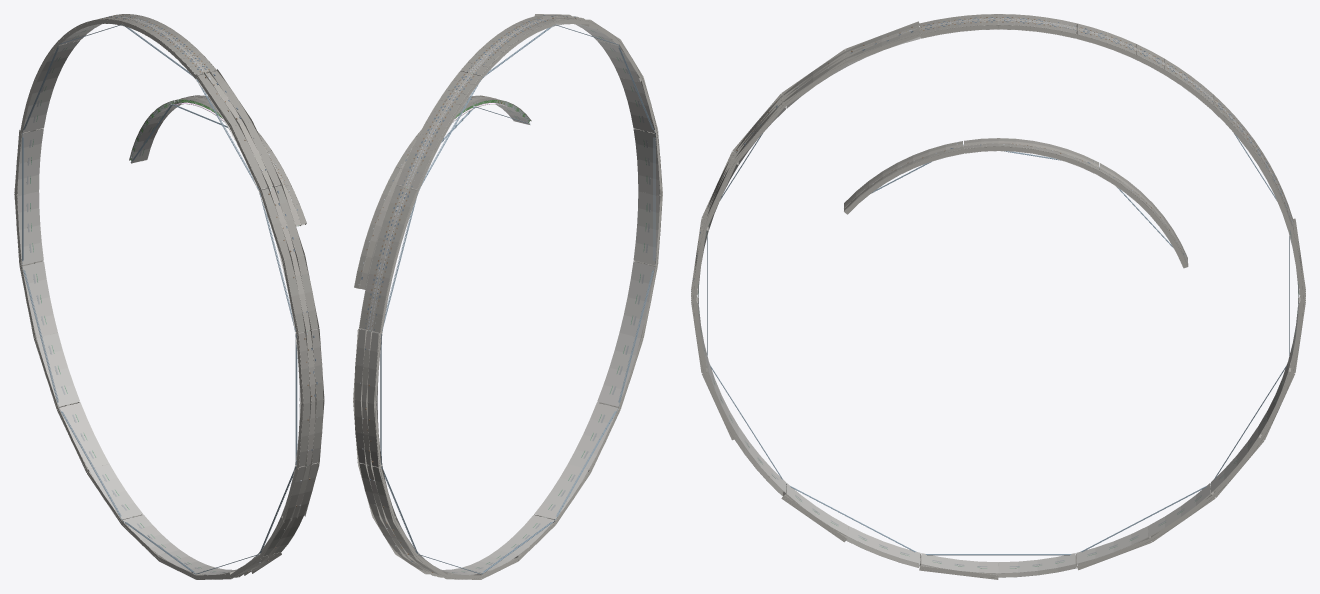
The model's file is xuanshu_interior_C24.glb.
The picture shows the model from 3 angles, left to right: view 1: azimuth 30°, elevation 25°; view 2: azimuth 150°, elevation 25°; view 3: azimuth 270°, elevation 25°; orthographic projection. The views are drawn at different scales.
Parts seen in each view (by area): view 1: UNIT-HAB-011, UNIT-RIT-003, UNIT-RIT-001, UNIT-HAB-009, UNIT-AGR-001; view 2: UNIT-HAB-009, UNIT-RIT-001, UNIT-RIT-003, UNIT-HAB-011, UNIT-AGR-001; view 3: UNIT-RIT-001, UNIT-HAB-009, UNIT-RIT-003, UNIT-HAB-011, UNIT-AGR-001.
Part boxes in pixels (box(x1,y1,x2,y2)): UNIT-HAB-011: box(195, 69, 324, 468); UNIT-RIT-003: box(14, 129, 143, 524); UNIT-RIT-001: box(121, 462, 319, 579); UNIT-HAB-009: box(20, 14, 216, 133); UNIT-AGR-001: box(129, 95, 306, 226); UNIT-HAB-009: box(359, 16, 555, 333); UNIT-RIT-001: box(462, 260, 657, 579); UNIT-RIT-003: box(353, 328, 481, 579); UNIT-HAB-011: box(534, 14, 662, 265); UNIT-AGR-001: box(354, 95, 531, 289); UNIT-RIT-001: box(702, 361, 1076, 579); UNIT-HAB-009: box(919, 14, 1292, 230); UNIT-RIT-003: box(1076, 218, 1305, 570); UNIT-HAB-011: box(691, 21, 920, 372); UNIT-AGR-001: box(844, 138, 1188, 268).
Size of the model in its own units: 61.31 by 404 by 406.
